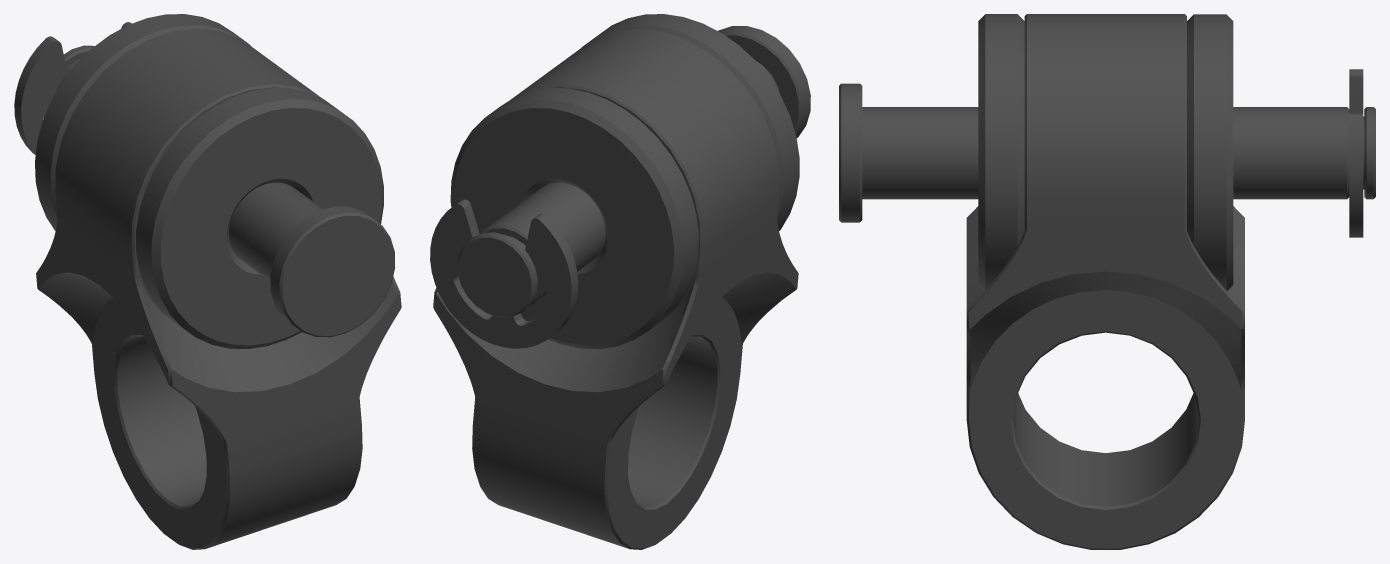
The model's file is link_left_wrist_y.glb.
The picture shows the model from 3 angles, left to right: view 1: azimuth 30°, elevation 25°; view 2: azimuth 150°, elevation 25°; view 3: azimuth 270°, elevation 25°; orthographic projection. The views are drawn at different scales.
Visible parts, largest first — view 1: link_left_wrist_y; view 2: link_left_wrist_y; view 3: link_left_wrist_y.
Part boxes in pixels (bbox=[...]): link_left_wrist_y: bbox=[14, 14, 401, 549]; link_left_wrist_y: bbox=[430, 14, 810, 549]; link_left_wrist_y: bbox=[839, 14, 1375, 549].
Bounding box in the file's own units: 0.0125 × 0.0232 × 0.0231.
1 material, 1 textured.
